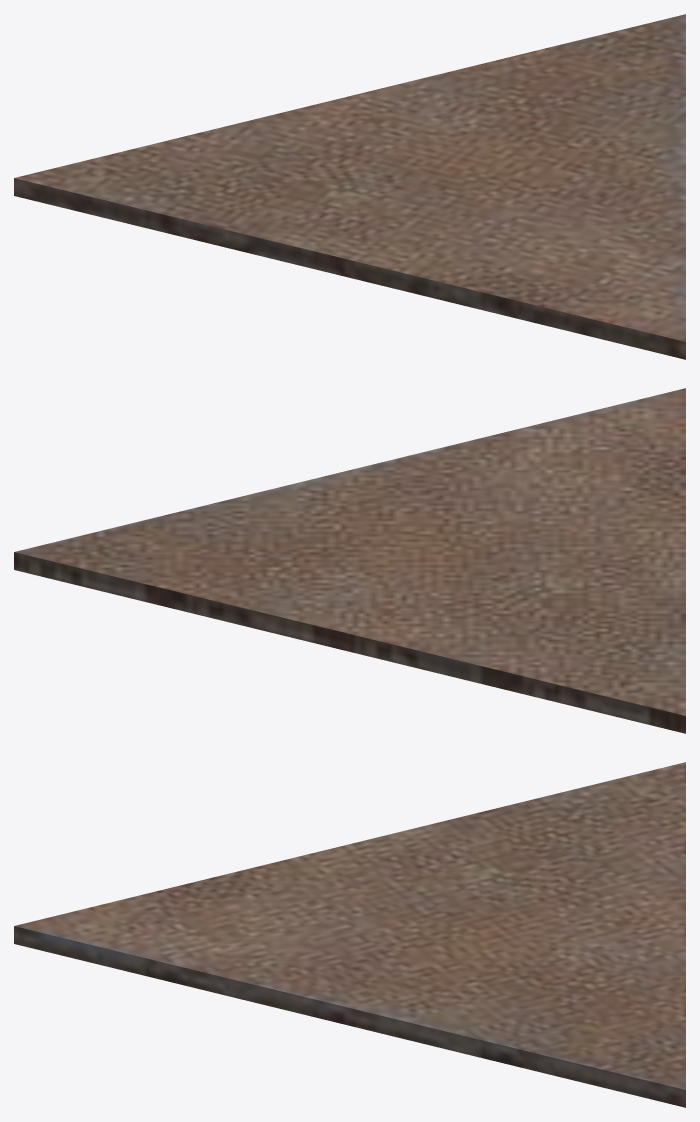
File: metal_foundation_triangle_low_textured.glb
The picture shows the model from 3 angles, top to bottom: view 1: azimuth 30°, elevation 25°; view 2: azimuth 150°, elevation 25°; view 3: azimuth 270°, elevation 25°; orthographic projection.
Visible parts, largest first — view 1: Circle.001; view 2: Circle.001; view 3: Circle.001.
Boxes of the visible parts, left/top/right/bottom form: Circle.001: left=14, top=14, right=685, bottom=359; Circle.001: left=14, top=388, right=685, bottom=733; Circle.001: left=14, top=762, right=685, bottom=1107.
Bounding box in the file's own units: 2 × 0.0508 × 1.73.
Materials: 1 (1 with a texture image).
